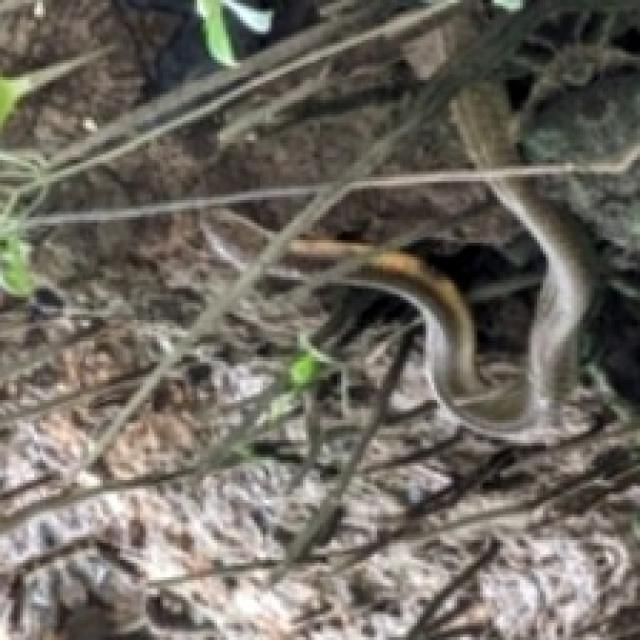king cobra: (197, 3, 591, 440)
